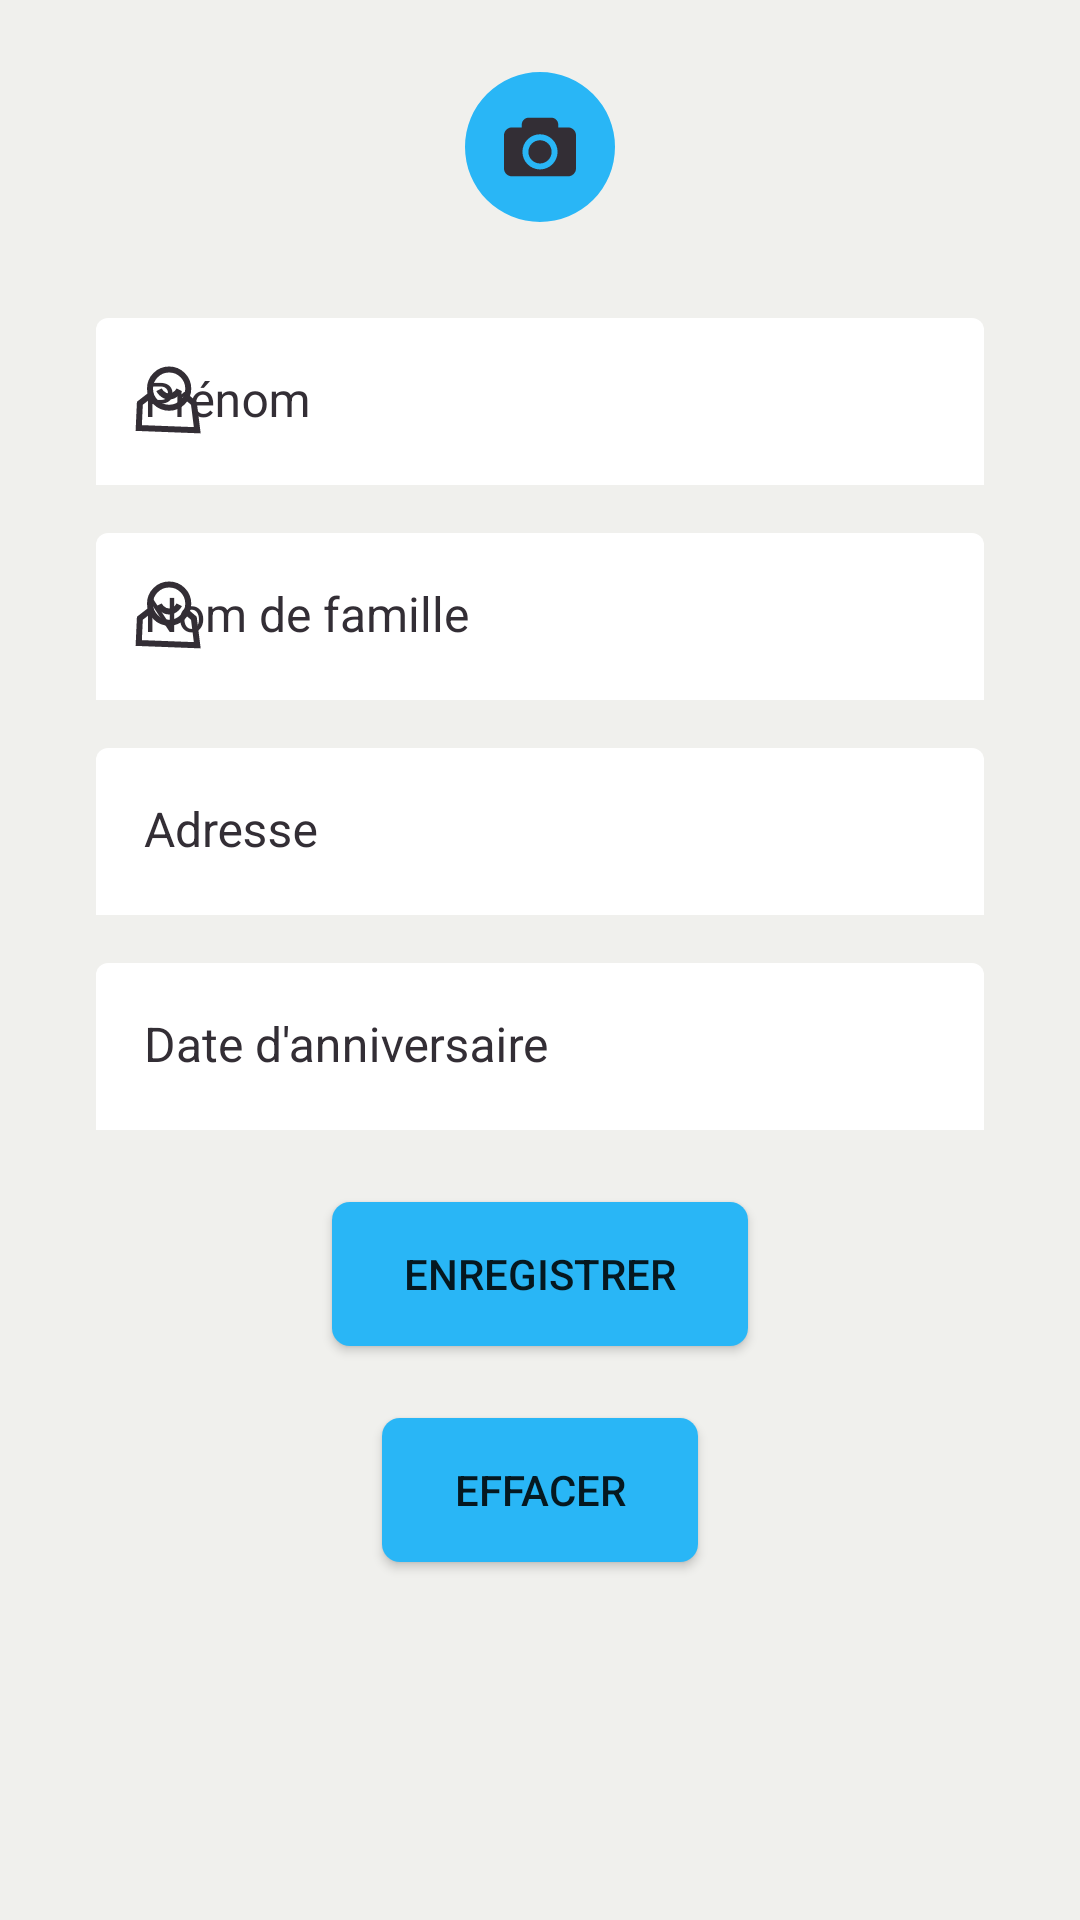

Icons on this 1080px×1920px Android screen, each with the point to tap as point (x, y):
add photo: point (540, 147)
